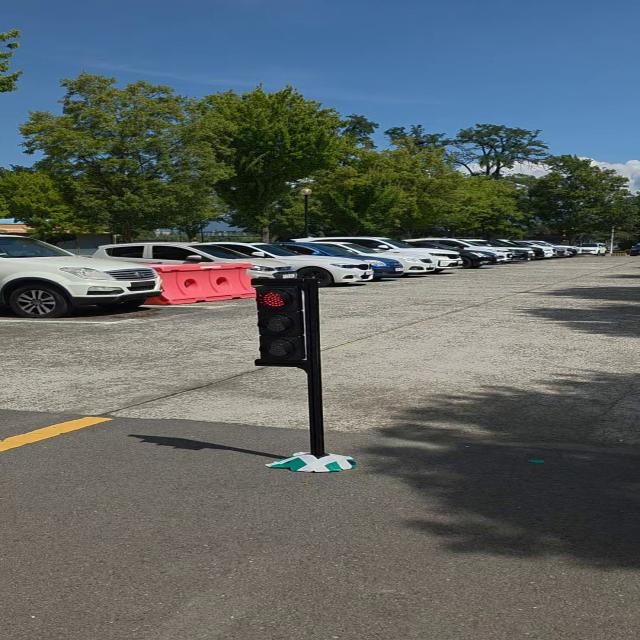red: (247, 284, 318, 372)
